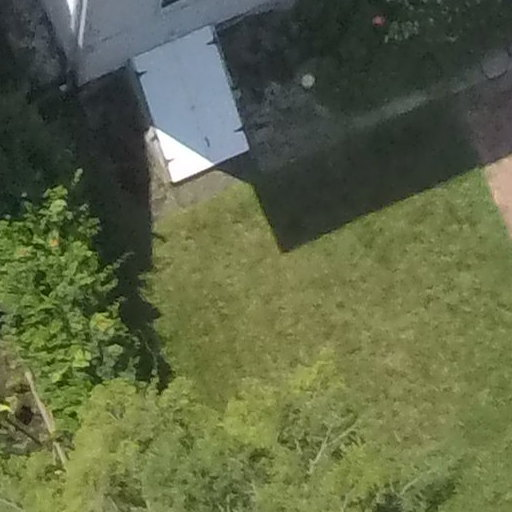container: (296, 70, 319, 92)
